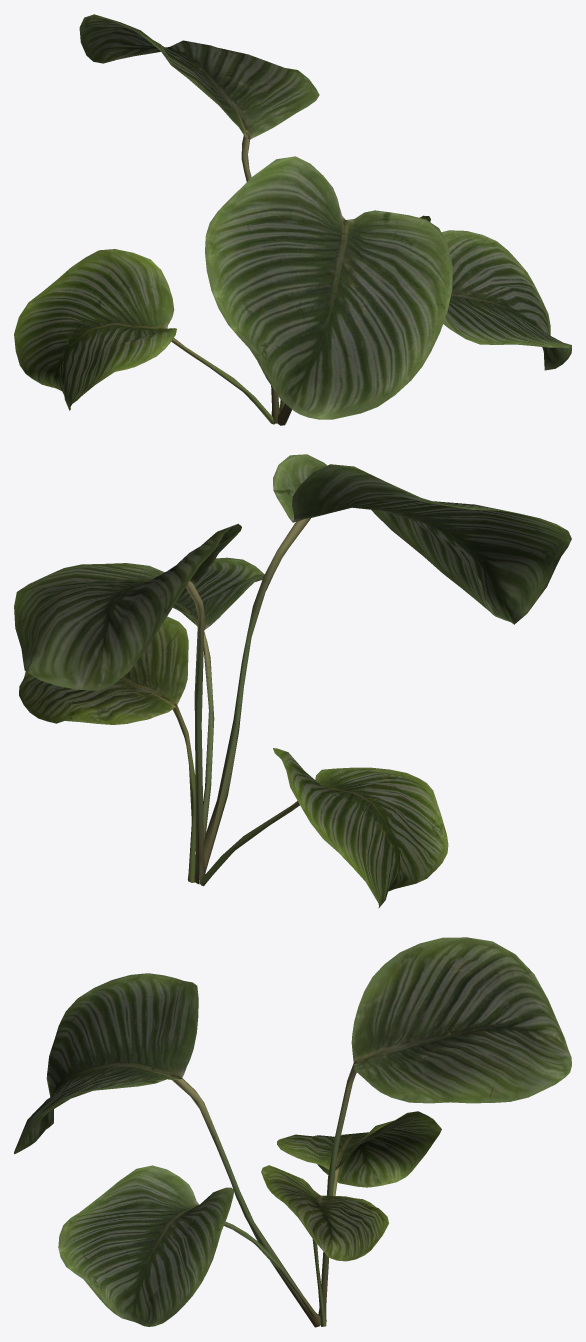
The model's file is calathea_orbifolia_01_c.gltf.lod.glb.
The picture shows the model from 3 angles, top to bottom: view 1: azimuth 30°, elevation 25°; view 2: azimuth 150°, elevation 25°; view 3: azimuth 270°, elevation 25°; orthographic projection. The views are drawn at different scales.
Parts seen in each view (by area): view 1: calathea_orbifolia_01_b; view 2: calathea_orbifolia_01_b; view 3: calathea_orbifolia_01_b.
Boxes of the visible parts, left/top/right/bottom form: calathea_orbifolia_01_b: left=14, top=14, right=571, bottom=425; calathea_orbifolia_01_b: left=14, top=454, right=571, bottom=908; calathea_orbifolia_01_b: left=14, top=937, right=571, bottom=1327.
Bounding box in the file's own units: 0.3474 × 0.3034 × 0.4402.
1 material, 1 textured.
